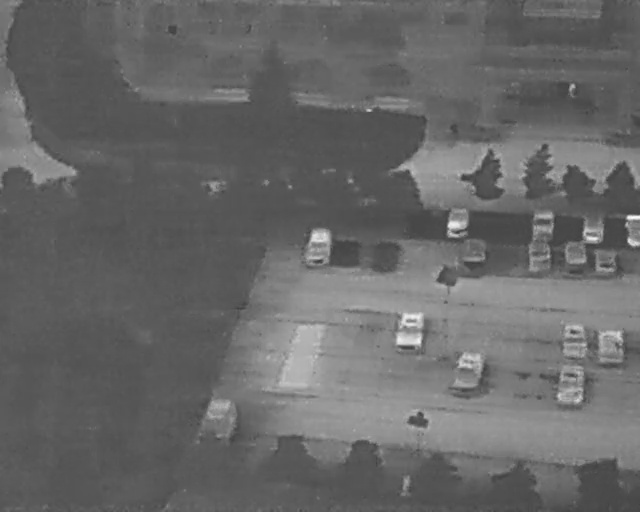Car: (552, 362, 589, 408), (450, 347, 487, 390), (393, 309, 426, 352), (303, 224, 334, 269), (444, 204, 473, 243), (529, 205, 558, 244), (578, 208, 607, 247), (524, 238, 554, 274), (561, 321, 589, 359), (596, 328, 624, 366), (561, 238, 589, 269), (592, 245, 619, 277), (623, 211, 639, 251)
Person: (567, 80, 577, 99)
